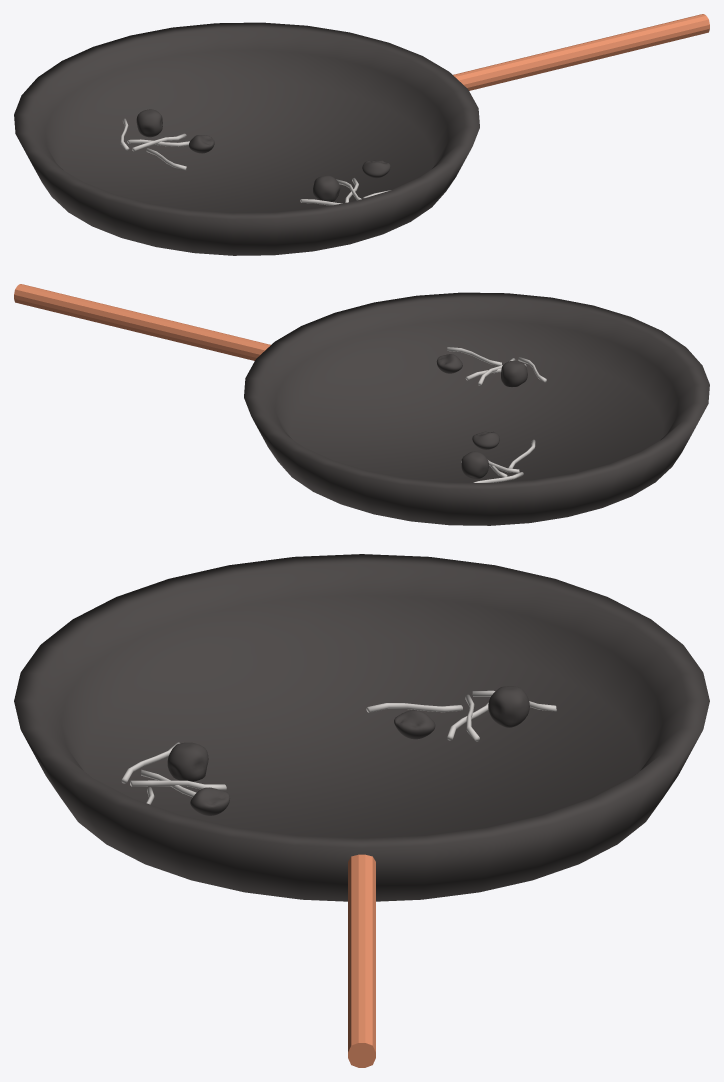
Rendered from Assets.fbx_QuestGlas.fbx_Pan.fbx.
The picture shows the model from 3 angles, top to bottom: view 1: azimuth 30°, elevation 25°; view 2: azimuth 150°, elevation 25°; view 3: azimuth 270°, elevation 25°; orthographic projection. The views are drawn at different scales.
Visible parts, largest first — view 1: Cube.003, Sphere.003, Sphere.005, Sphere.006, Sphere.004; view 2: Cube.003, Sphere.003, Sphere.005, Sphere.004, Sphere.006; view 3: Cube.003, Sphere.003, Sphere.005, Sphere.004, Sphere.006.
Part boxes in pixels (x1,y1,x2,y2): Cube.003: [14, 14, 709, 255]; Sphere.003: [136, 109, 162, 137]; Sphere.005: [313, 175, 340, 201]; Sphere.006: [362, 160, 390, 178]; Sphere.004: [189, 135, 214, 153]; Cube.003: [14, 284, 709, 525]; Sphere.003: [461, 451, 488, 479]; Sphere.005: [501, 360, 527, 386]; Sphere.004: [472, 431, 499, 449]; Sphere.006: [436, 354, 462, 373]; Cube.003: [14, 554, 709, 1067]; Sphere.003: [488, 686, 529, 727]; Sphere.005: [167, 742, 208, 781]; Sphere.004: [394, 710, 435, 739]; Sphere.006: [190, 787, 229, 815].
Size of the model in its own units: 52.88 by 3.66 by 32.38.
